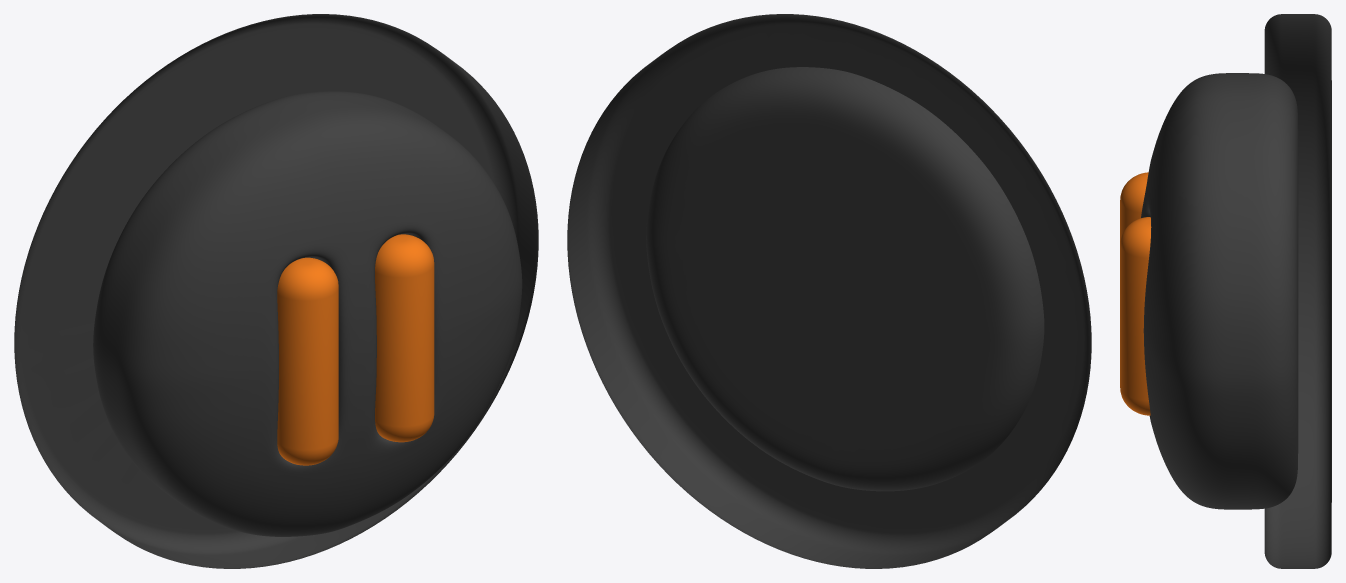
Rendered from pause-animated-3d-icon-1707820400433.glb.
3 views of the same model, side by side, from view 1: azimuth 30°, elevation 25°; view 2: azimuth 150°, elevation 25°; view 3: azimuth 270°, elevation 25° (orthographic). The views are drawn at different scales.
Parts seen in each view (by area): view 1: Base 2, Base 1, Pause Icon; view 2: Base 2, Base 1; view 3: Base 2, Base 1, Pause Icon.
Boxes of the visible parts, left/top/right/bottom form: Base 2: left=93, top=91, right=522, bottom=536; Base 1: left=14, top=14, right=538, bottom=568; Pause Icon: left=277, top=234, right=434, bottom=465; Base 2: left=646, top=67, right=1044, bottom=491; Base 1: left=567, top=14, right=1091, bottom=568; Base 2: left=1141, top=73, right=1298, bottom=509; Base 1: left=1264, top=14, right=1331, bottom=568; Pause Icon: left=1120, top=172, right=1151, bottom=415.
Size of the model in its own units: 2.24 by 2.24 by 0.8536.
